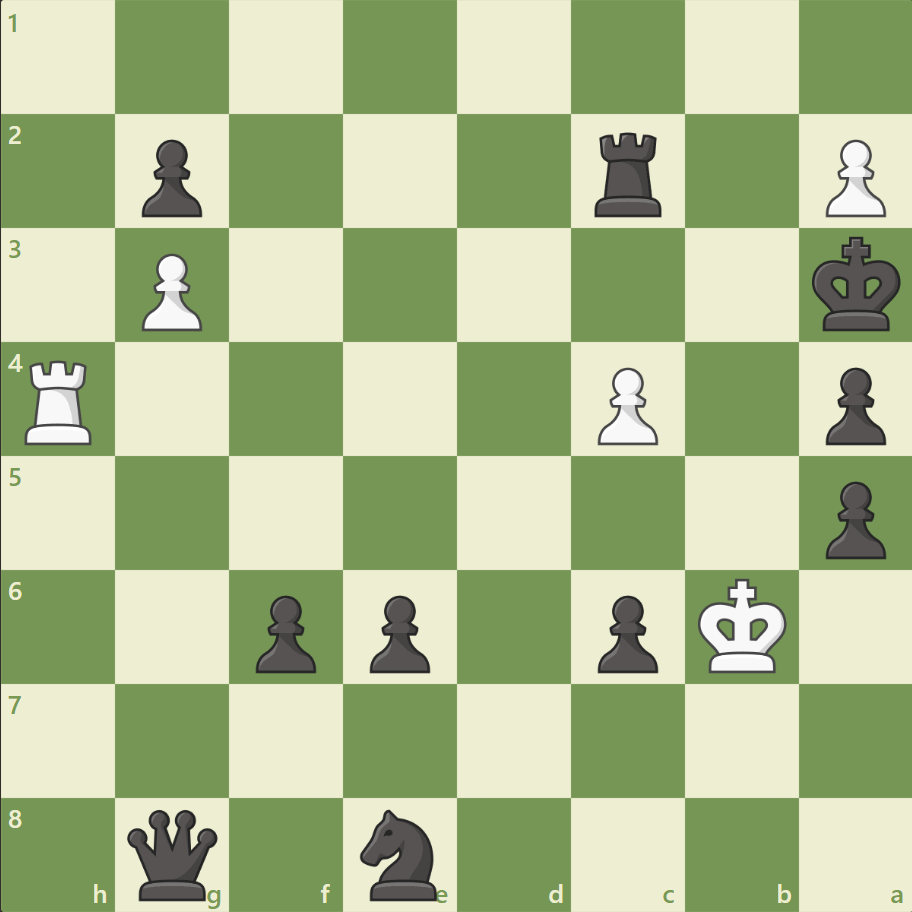K: (692, 571, 792, 679)
P: (133, 246, 208, 337), (588, 359, 662, 450), (815, 132, 889, 223)
R: (19, 352, 102, 449)
k: (806, 231, 906, 339)
n: (351, 802, 449, 904)
p: (247, 586, 322, 677), (133, 132, 208, 223), (588, 586, 662, 677), (361, 586, 435, 677), (815, 473, 889, 564), (815, 359, 889, 450)
q: (124, 804, 223, 903)
r: (587, 125, 670, 222)
